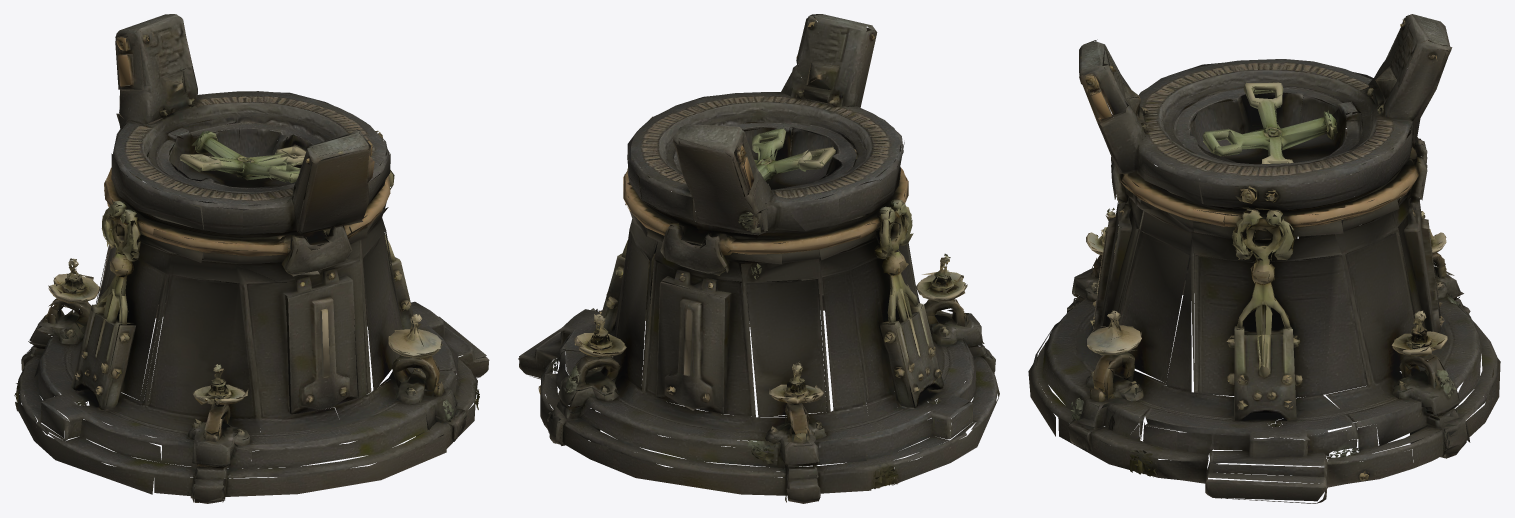
The model's file is ch8_harmonic_key_altar_LOD1.glb.
3 renders of one model, left to right at view 1: azimuth 30°, elevation 25°; view 2: azimuth 150°, elevation 25°; view 3: azimuth 270°, elevation 25°, orthographic. The views are drawn at different scales.
Visible parts, largest first — view 1: tripo_node_63062fc4-c9be-4fcc-b88b-4483c87d165c; view 2: tripo_node_63062fc4-c9be-4fcc-b88b-4483c87d165c; view 3: tripo_node_63062fc4-c9be-4fcc-b88b-4483c87d165c.
Part boxes in pixels (x1,y1,x2,y2): tripo_node_63062fc4-c9be-4fcc-b88b-4483c87d165c: (14, 14, 489, 503); tripo_node_63062fc4-c9be-4fcc-b88b-4483c87d165c: (518, 14, 999, 503); tripo_node_63062fc4-c9be-4fcc-b88b-4483c87d165c: (1028, 14, 1500, 503).
Size of the model in its own units: 1.01 by 0.7715 by 0.9208.
1 material, 1 textured.
